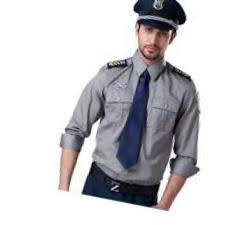uniform: (48, 39, 210, 211)
